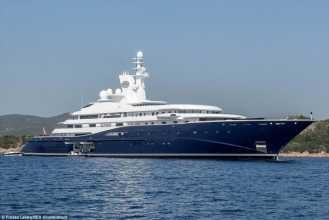yacht: (22, 48, 317, 156)
